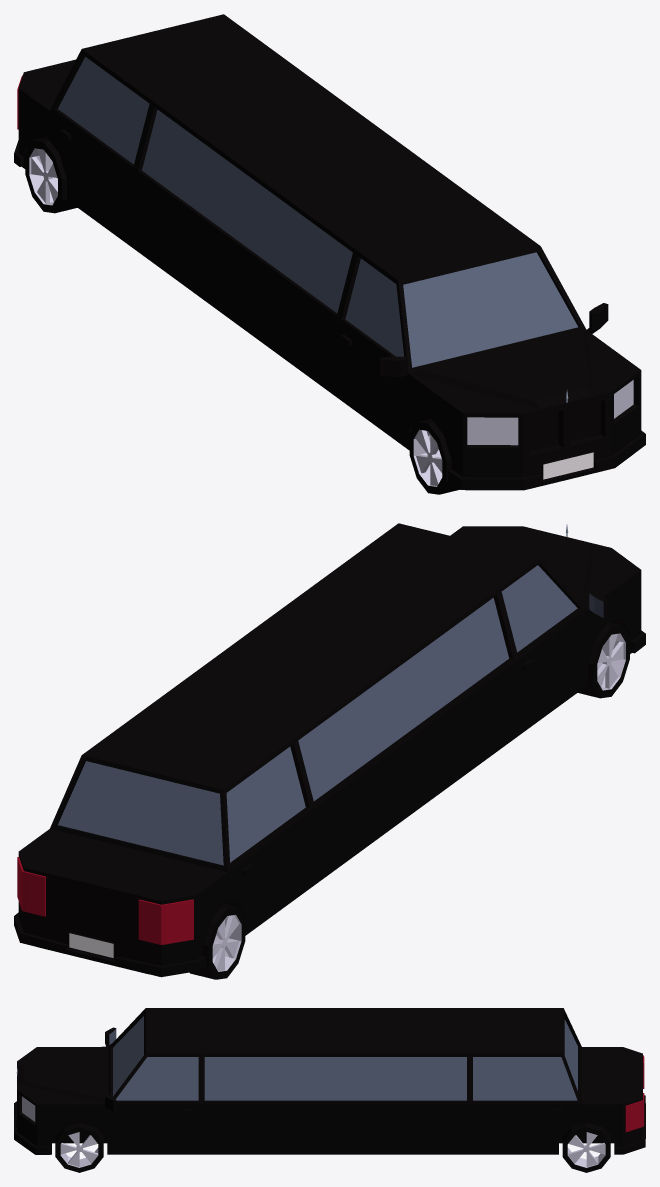
The model's file is Limousine.glb.
3 renders of one model, top to bottom at view 1: azimuth 30°, elevation 25°; view 2: azimuth 150°, elevation 25°; view 3: azimuth 270°, elevation 25°, orthographic. The views are drawn at different scales.
Parts seen in each view (by area): view 1: Limousine, Limousine wheel rear right, Limousine wheel front right; view 2: Limousine, Limousine wheel rear right, Limousine wheel front right; view 3: Limousine, Limousine wheel rear left, Limousine wheel front left.
Boxes of the visible parts, x1,y1,x2,y2 form: Limousine: (14, 14, 645, 490); Limousine wheel rear right: (25, 137, 77, 213); Limousine wheel front right: (409, 418, 459, 494); Limousine: (14, 523, 645, 977); Limousine wheel rear right: (189, 903, 245, 979); Limousine wheel front right: (578, 622, 629, 698); Limousine: (14, 1008, 645, 1154); Limousine wheel rear left: (562, 1123, 610, 1172); Limousine wheel front left: (55, 1123, 103, 1172).
Bounding box in the file's own units: 281 × 201 × 1024.
